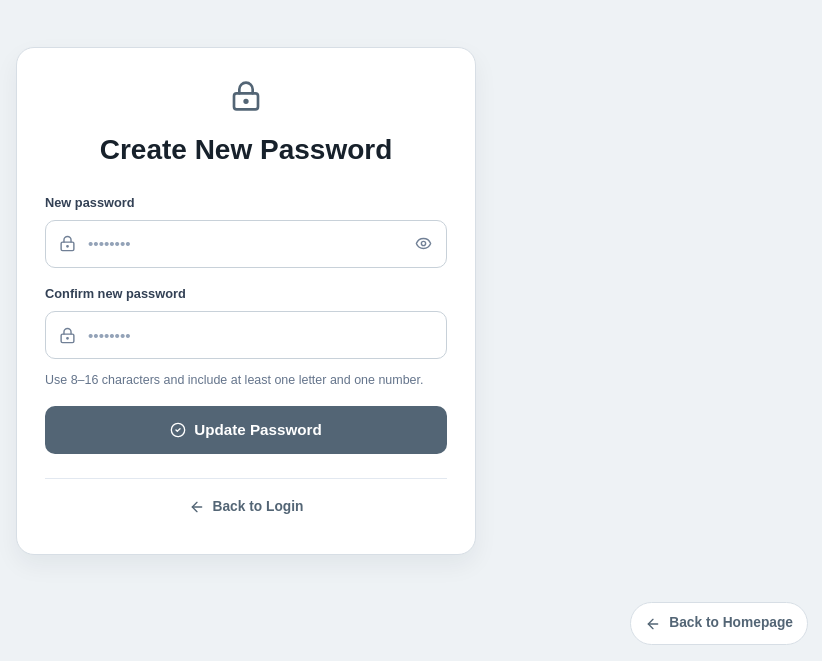
it: ResetPassword › surfaces an expired or already used link
The image size is (822, 661).
Type "Str0ng!Pass" into the password field labelled "New password".
click(246, 244); type("Str0ng!Pass")  # box [45,220,447,268]
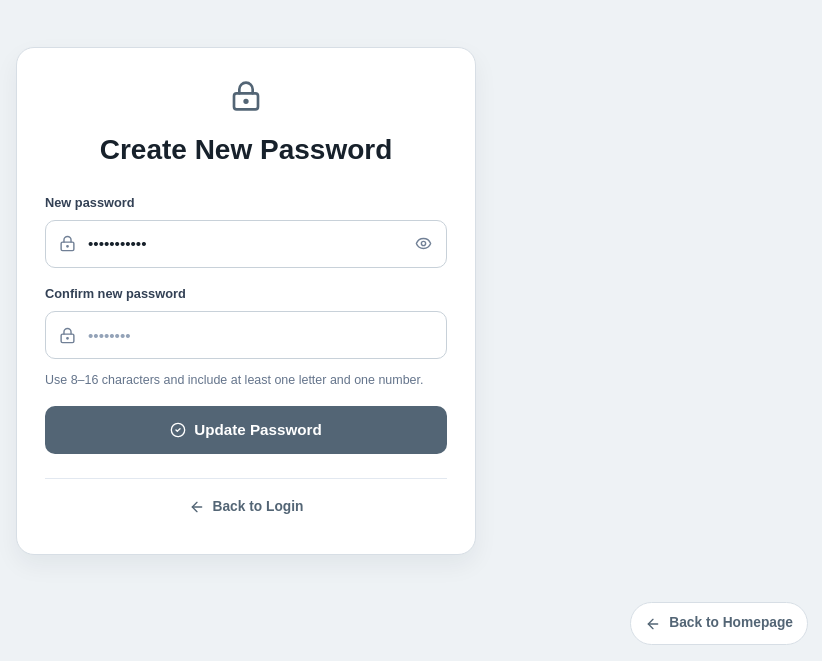
Type "Str0ng!Pass" into the password field labelled "Confirm new password".
click(246, 335); type("Str0ng!Pass")  # box [45,311,447,359]
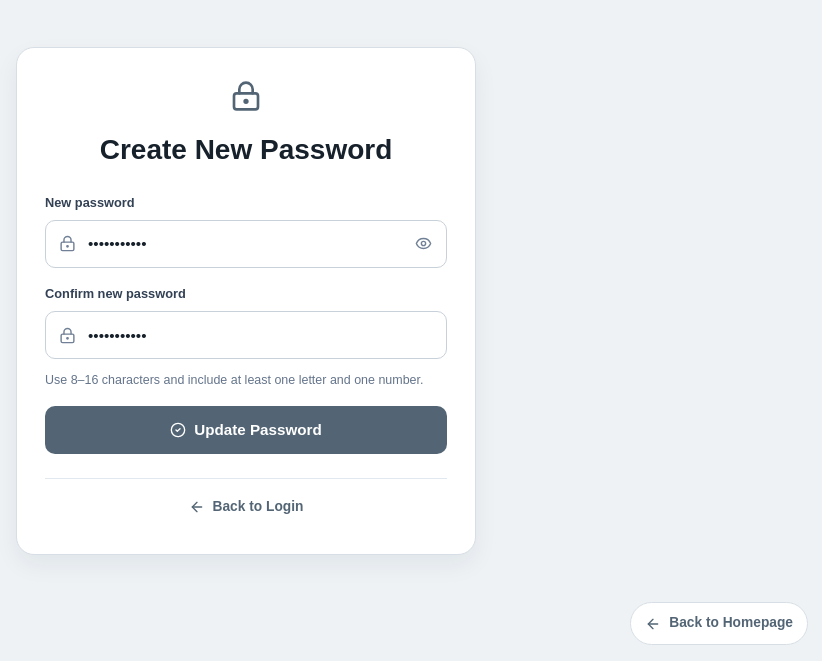
Click the button "Update Password".
click(246, 430)  # box [45,406,447,454]
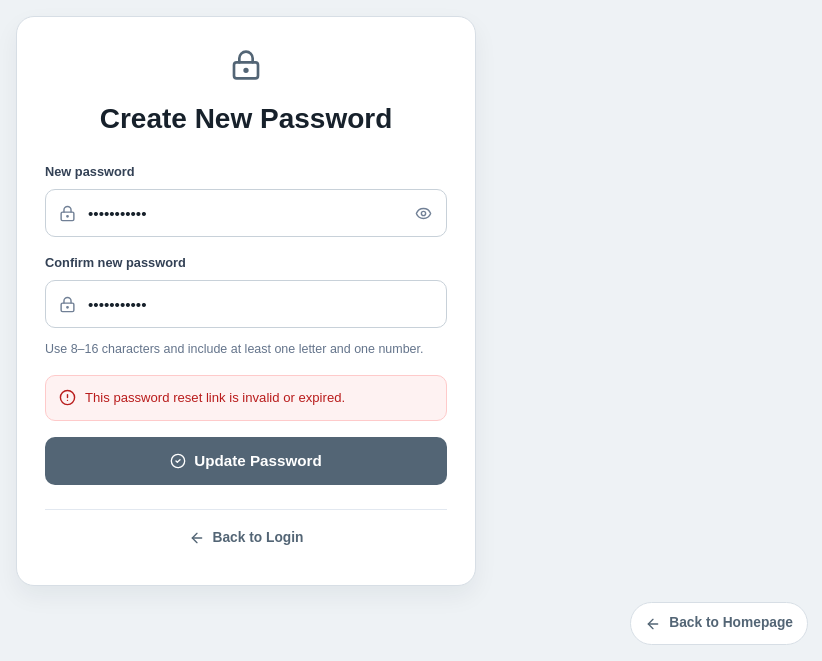
Expected: the message reads "This password reset link is invalid or expired.", [85,390,345,405]
